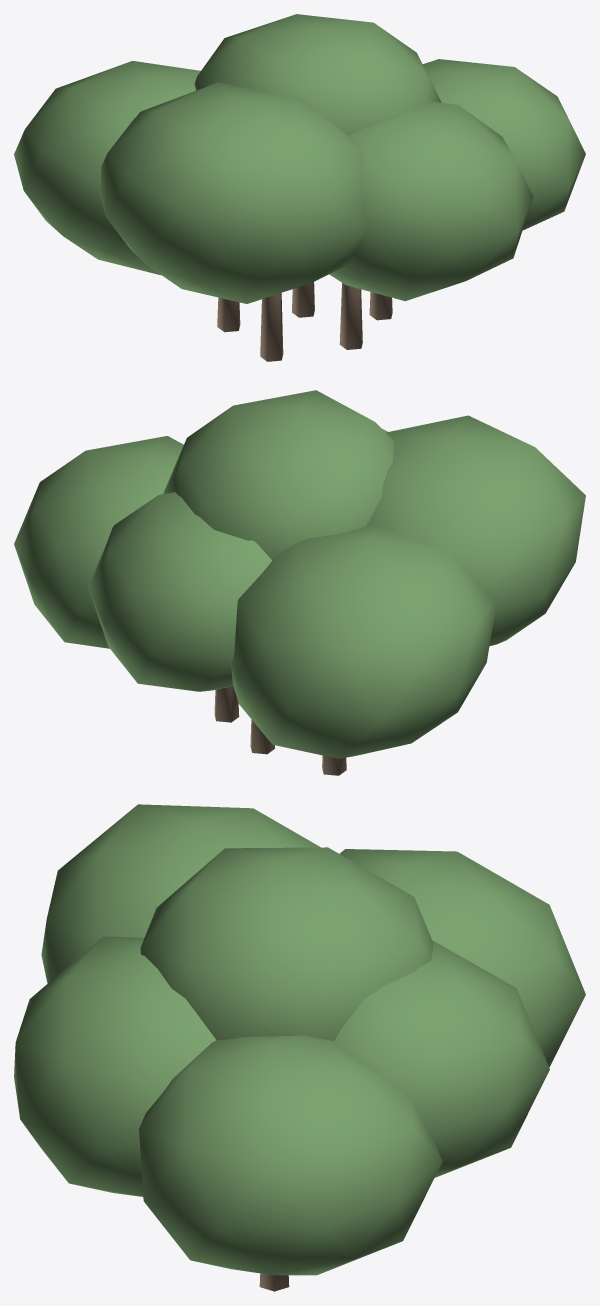
The model's file is shrub_2.glb.
3 renders of one model, top to bottom at view 1: azimuth 30°, elevation 25°; view 2: azimuth 150°, elevation 25°; view 3: azimuth 270°, elevation 25°, orthographic. The views are drawn at different scales.
Parts seen in each view (by area): view 1: shrub_2; view 2: shrub_2; view 3: shrub_2.
Boxes of the visible parts, box(x1,y1,x2,y2) form: shrub_2: box(14, 14, 585, 361); shrub_2: box(14, 390, 585, 775); shrub_2: box(14, 804, 585, 1291).
Size of the model in its own units: 1.96 by 1.22 by 1.66.
